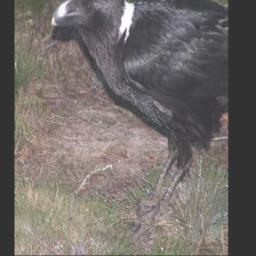Crow: (50, 0, 228, 246)
